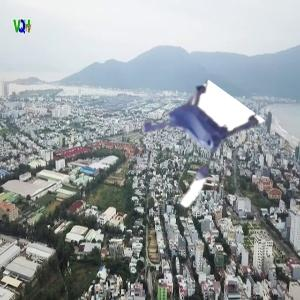drone: (118, 75, 244, 201)
